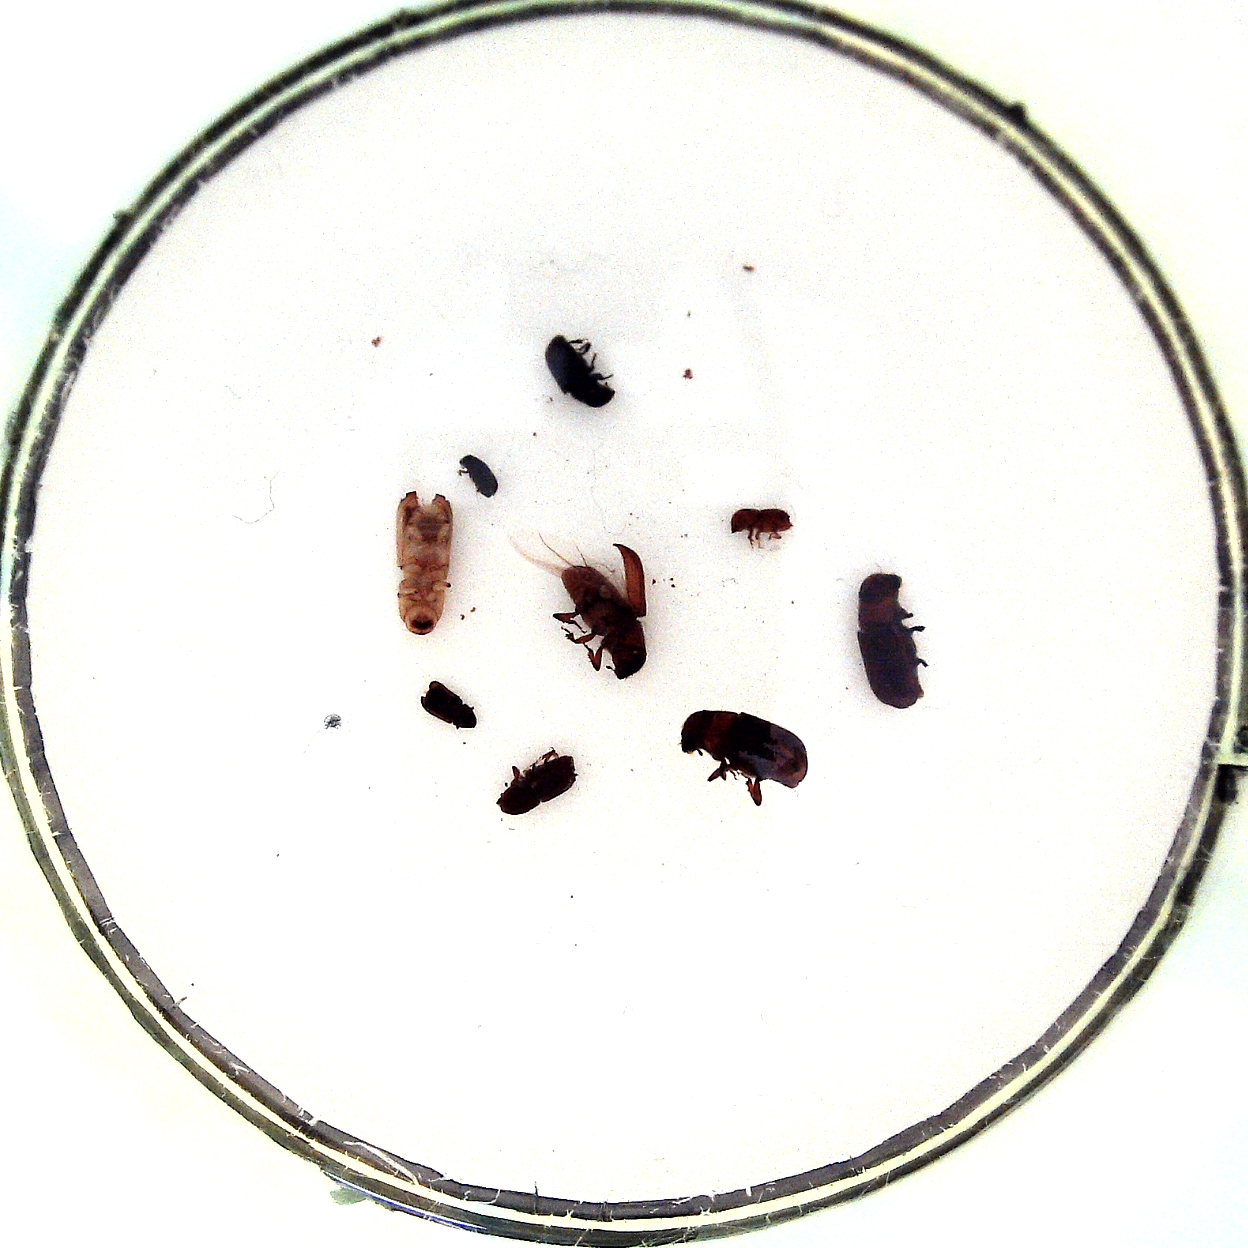Boerner: (395, 491, 454, 634)
Leconte: (681, 710, 807, 789), (561, 566, 647, 680), (855, 574, 925, 709)
acuminatus: (459, 454, 498, 497)
armandi: (545, 335, 616, 408)
coleoptera: (419, 680, 477, 729), (730, 507, 794, 534)
linnaeus: (496, 755, 577, 816)
